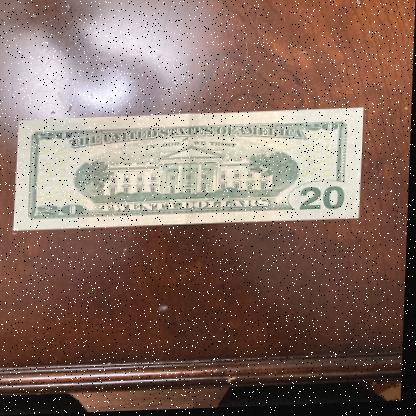twenty-back: (14, 109, 365, 231)
